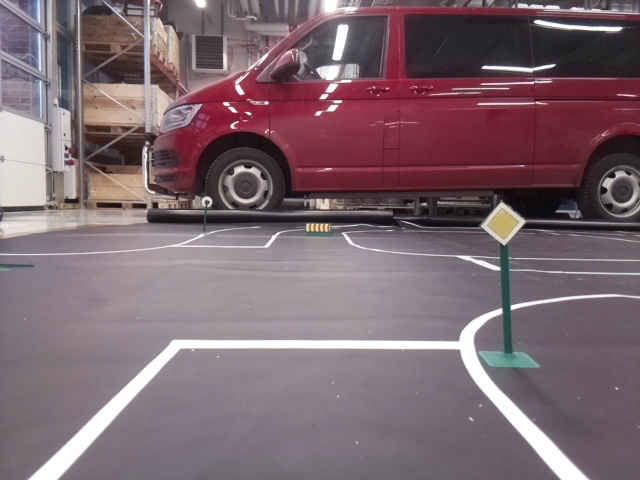Priority: (481, 203, 522, 242)
